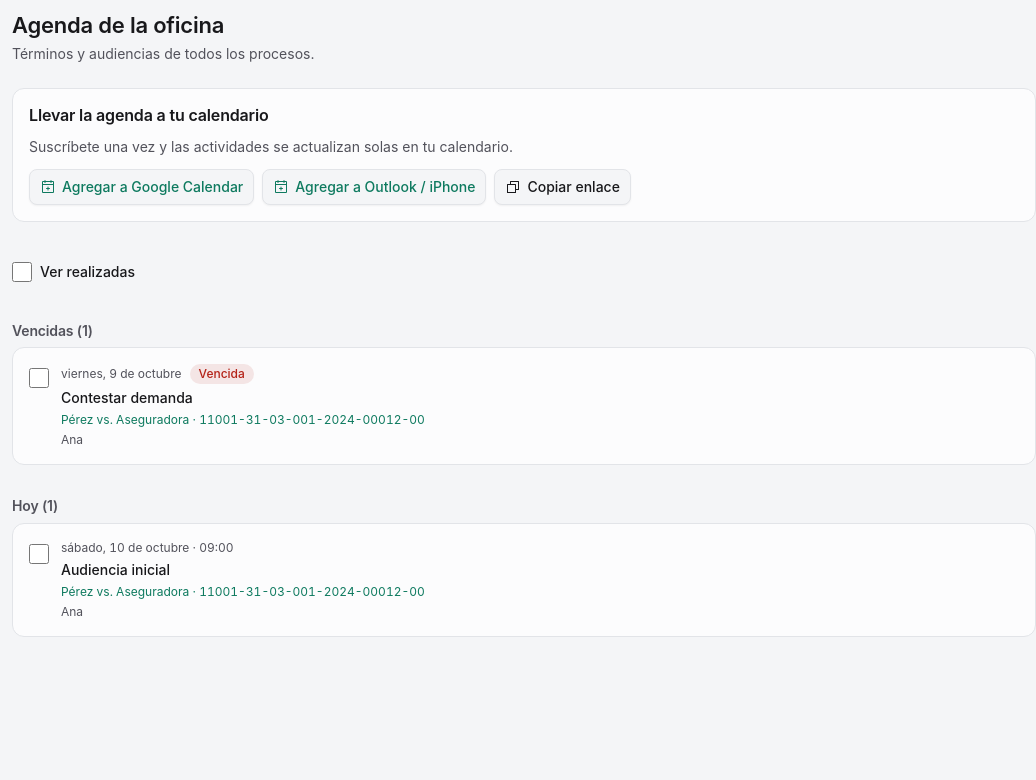
Scenario: VistaAgenda › ofrece la suscripción al calendario por webcal, Google y copiando el enlace
Expected: the heading "Vencidas (1)" is shown, [12, 322, 93, 338]
Step 1. Click the button "Copiar enlace" → click(563, 186), box [494, 168, 631, 204]
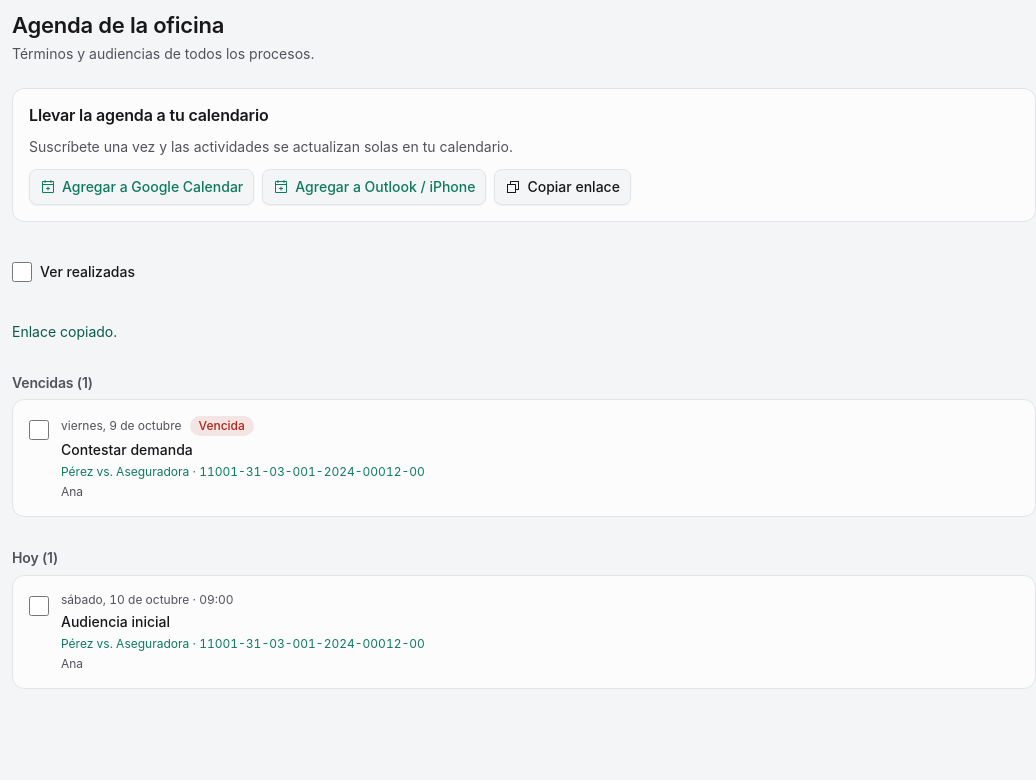
Expected: the message reads "Enlace copiado.", [12, 322, 117, 340]
